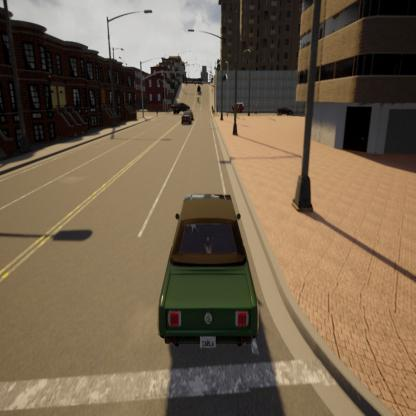Cars: (153, 188, 264, 360), (170, 100, 190, 116), (276, 105, 295, 118), (178, 110, 193, 126), (233, 102, 245, 113), (196, 84, 201, 93)
